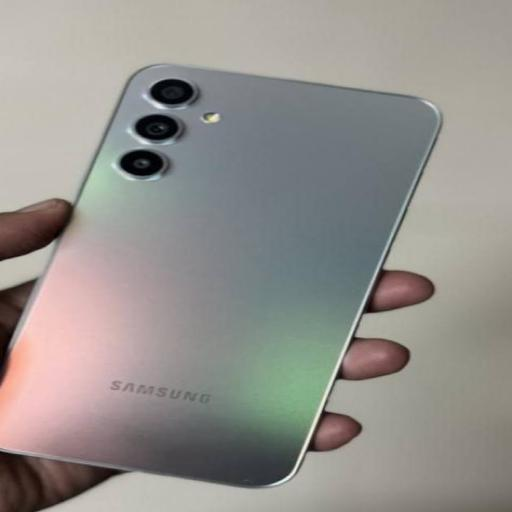people: (0, 66, 440, 486)
